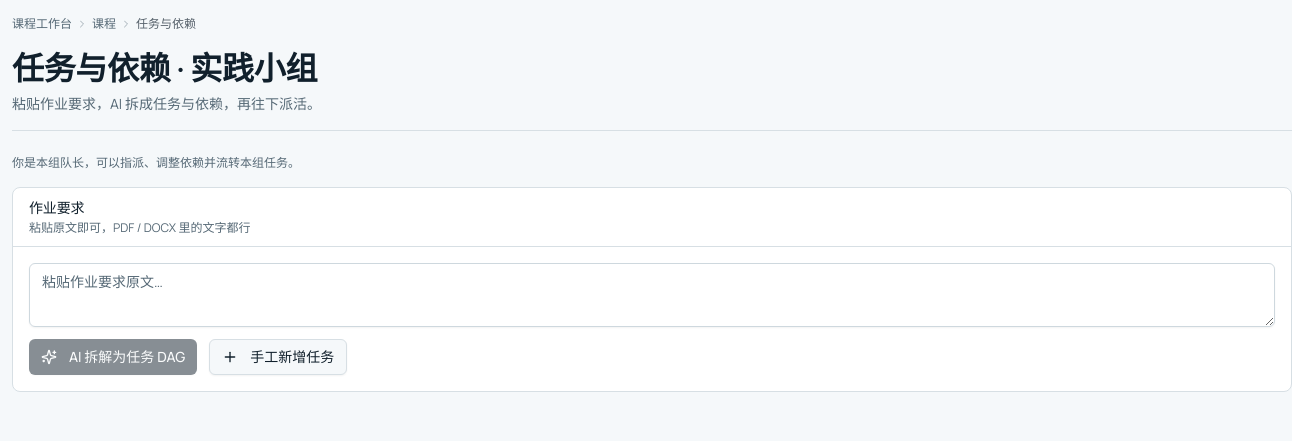
Test case: 任务页 AI 拆解：网络异常必须可见、可恢复、不丢输入 › 失败后原样重试能成功：错误消失、输入清空、计划出现
Type "以「校园二手交易」为题，完成需求分析、原型设计与可用性测试报告。" into the text box with placeholder "粘贴作业要求原文…" at (652, 295), box [29,263,1275,327]
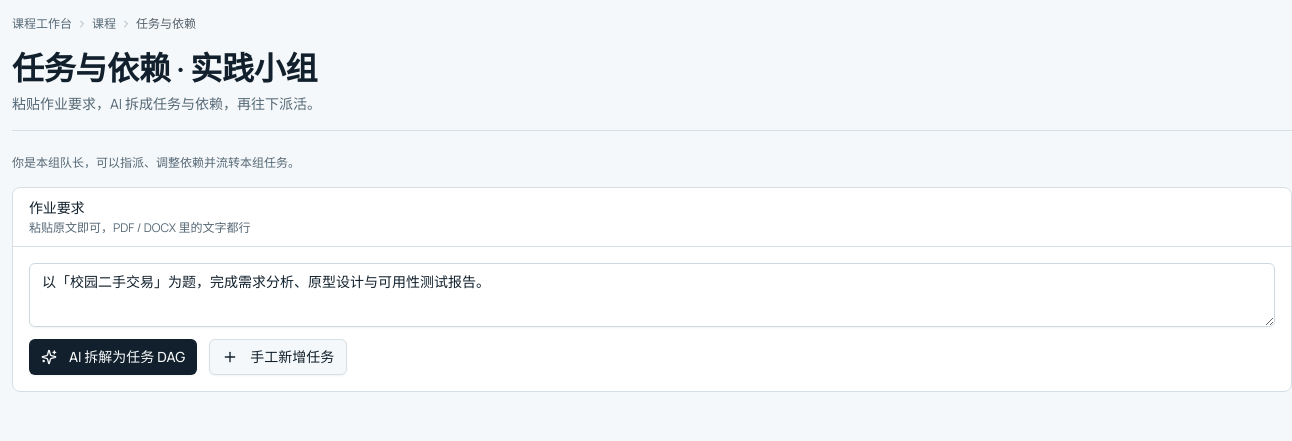
Expected: the button "AI 拆解为任务 DAG" is enabled
Click the button "AI 拆解为任务 DAG" at (113, 357), box [29,339,197,375]
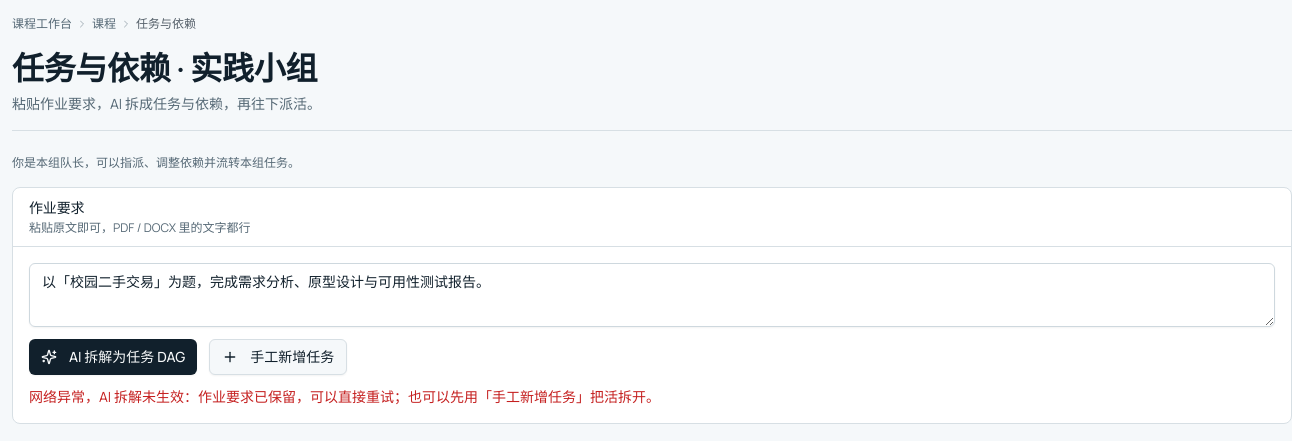
Expected: the message "网络异常，AI 拆解未生效：作业要求已保留，可以直接重试；也可以先用「手工新增任务」把活拆开。" is shown, [29,387,660,406]
Click the button "AI 拆解为任务 DAG" at (113, 357), box [29,339,197,375]
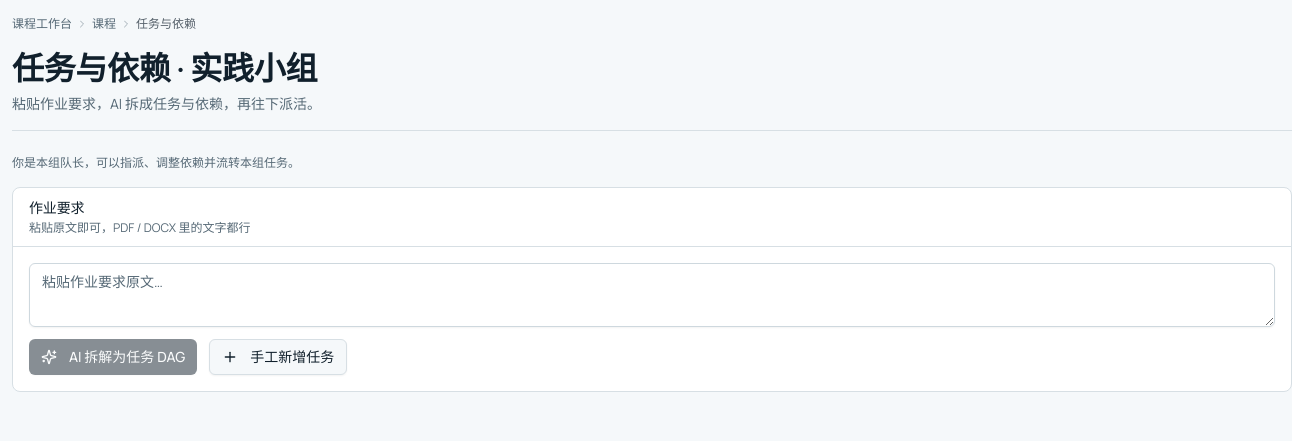
Expected: the message "网络异常，AI 拆解未生效：作业要求已保留，可以直接重试；也可以先用「手工新增任务」把活拆开。" is gone
Expected: the text box with placeholder "粘贴作业要求原文…" is empty, [29,263,1275,327]
